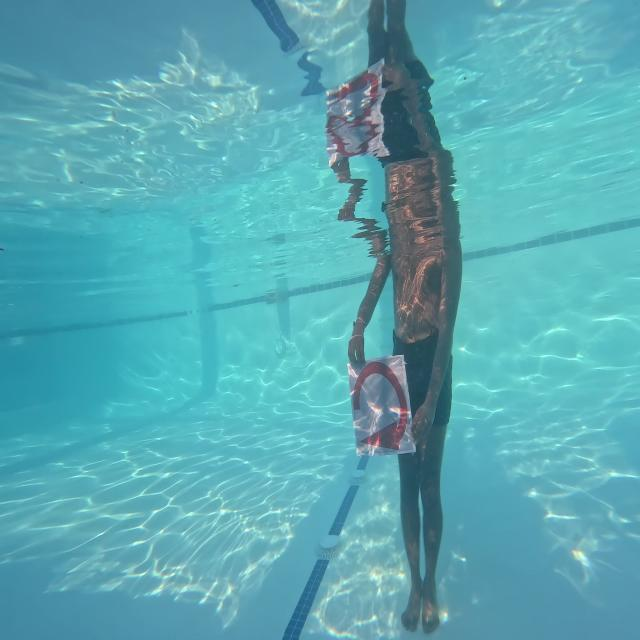red_side: (352, 353, 413, 456)
